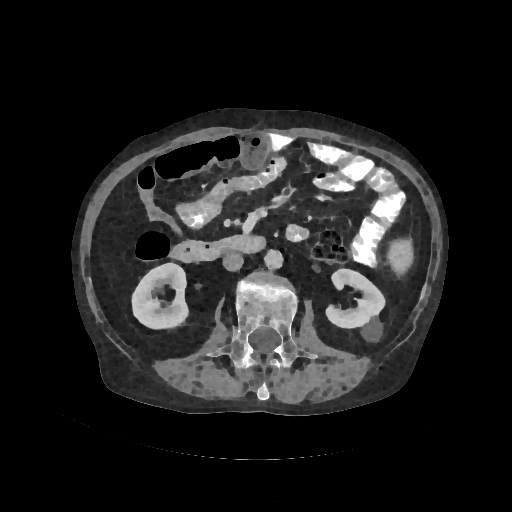Lesion: (357, 313, 387, 346)
